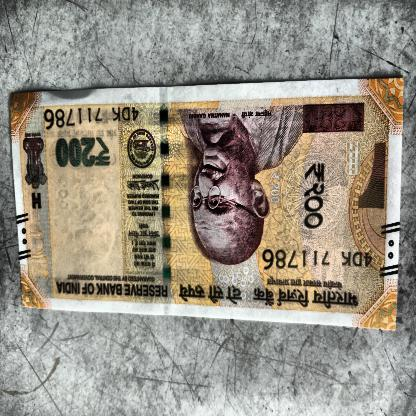Rs200: (51, 130, 114, 177)
